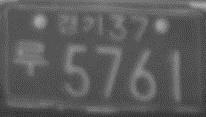1: (162, 49, 192, 104)
3: (107, 12, 128, 42)
5: (62, 43, 92, 99)
6: (127, 47, 158, 102)
7: (94, 44, 122, 98), (129, 13, 148, 42)
경기_O: (56, 12, 104, 38)
루: (12, 39, 47, 78)
